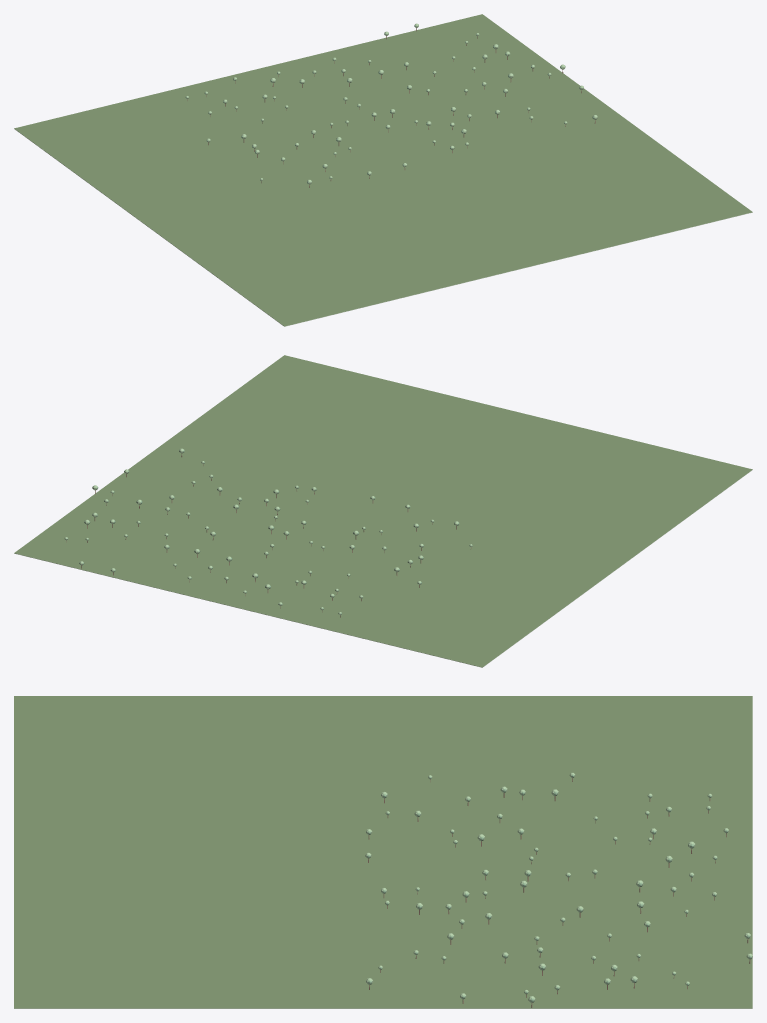
Rendered from chunk_0_7_high.glb.
3 renders of one model, top to bottom at view 1: azimuth 30°, elevation 25°; view 2: azimuth 150°, elevation 25°; view 3: azimuth 270°, elevation 25°, orthographic. The views are drawn at different scales.
Parts seen in each view (by area): view 1: city_forest_floor, city_foliage, city_grass; view 2: city_forest_floor, city_foliage, city_grass; view 3: city_forest_floor, city_foliage, city_foliage_dark, city_grass.
Boxes of the visible parts, x1,y1,x2,y2 form: city_forest_floor: [14, 14, 752, 326]; city_foliage: [186, 23, 597, 184]; city_grass: [14, 129, 752, 326]; city_forest_floor: [14, 355, 752, 667]; city_foliage: [64, 448, 471, 614]; city_grass: [14, 470, 752, 667]; city_forest_floor: [14, 696, 752, 1008]; city_foliage: [365, 772, 752, 1002]; city_foliage_dark: [367, 774, 751, 1002]; city_grass: [14, 1008, 752, 1008].
Bounding box in the file's own units: 514 × 9.75 × 512.
